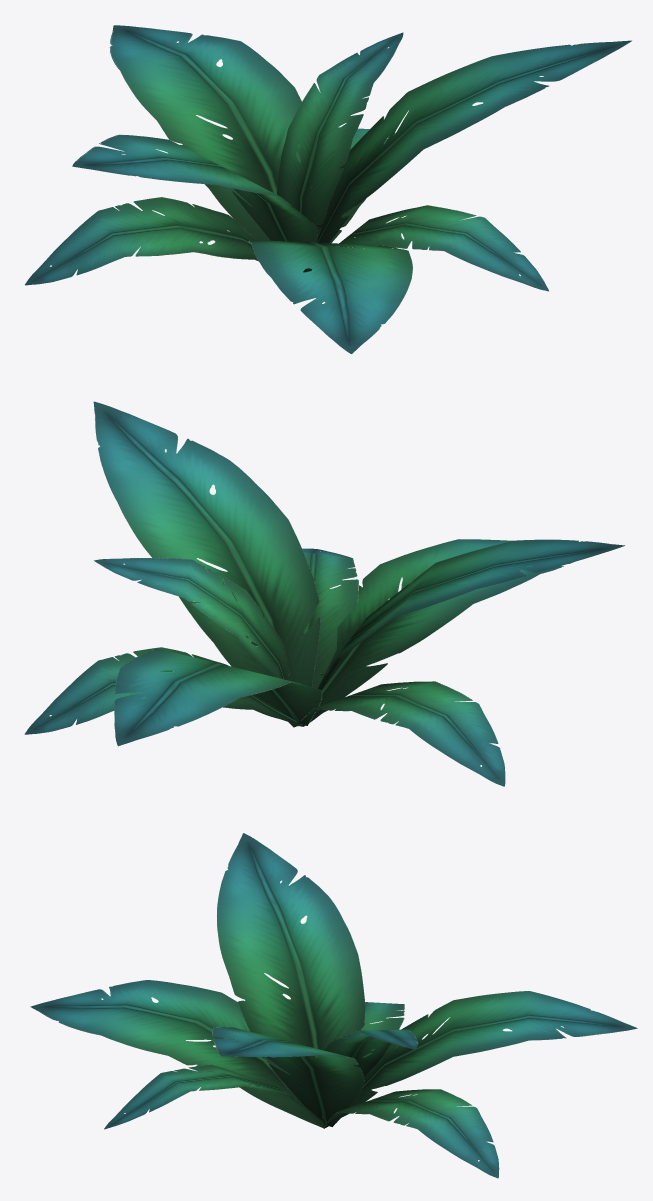
File: herbebleu.fbx
The picture shows the model from 3 angles, top to bottom: view 1: azimuth 30°, elevation 25°; view 2: azimuth 150°, elevation 25°; view 3: azimuth 270°, elevation 25°; orthographic projection. The views are drawn at different scales.
Visible parts, largest first — view 1: herbebleu; view 2: herbebleu; view 3: herbebleu.
Part boxes in pixels (x1,y1,x2,y2): herbebleu: (25,25,631,353); herbebleu: (24,401,624,786); herbebleu: (30,833,637,1178).
Size of the model in its own units: 165 by 59.65 by 184.
